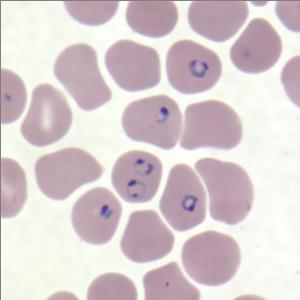Infected: (123, 94, 185, 150), (158, 161, 208, 230), (165, 39, 222, 94), (111, 151, 165, 203)
Uninfected: (54, 42, 112, 112), (34, 146, 106, 202), (195, 156, 253, 224), (179, 99, 244, 153), (21, 82, 75, 146), (182, 230, 242, 286), (70, 188, 124, 247), (229, 18, 284, 73), (119, 210, 175, 263), (105, 40, 161, 91), (189, 0, 250, 42), (125, 0, 179, 37)
